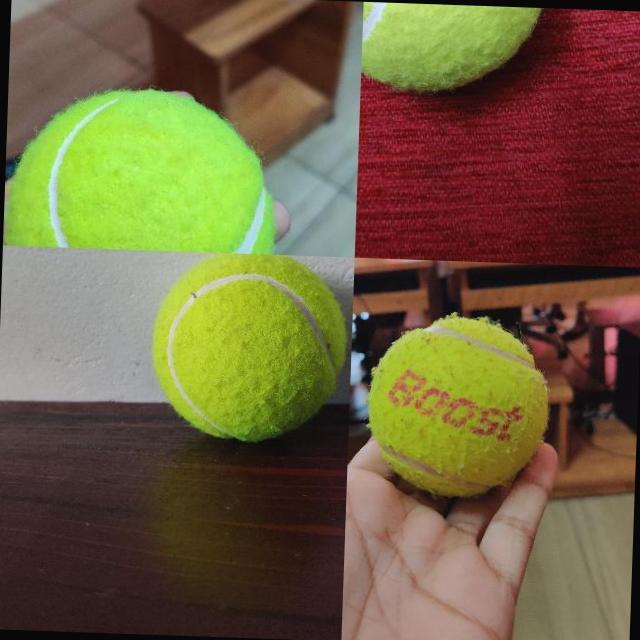Tennis Ball: (6, 85, 280, 253), (146, 250, 352, 447), (364, 312, 550, 498), (360, 2, 545, 96)
